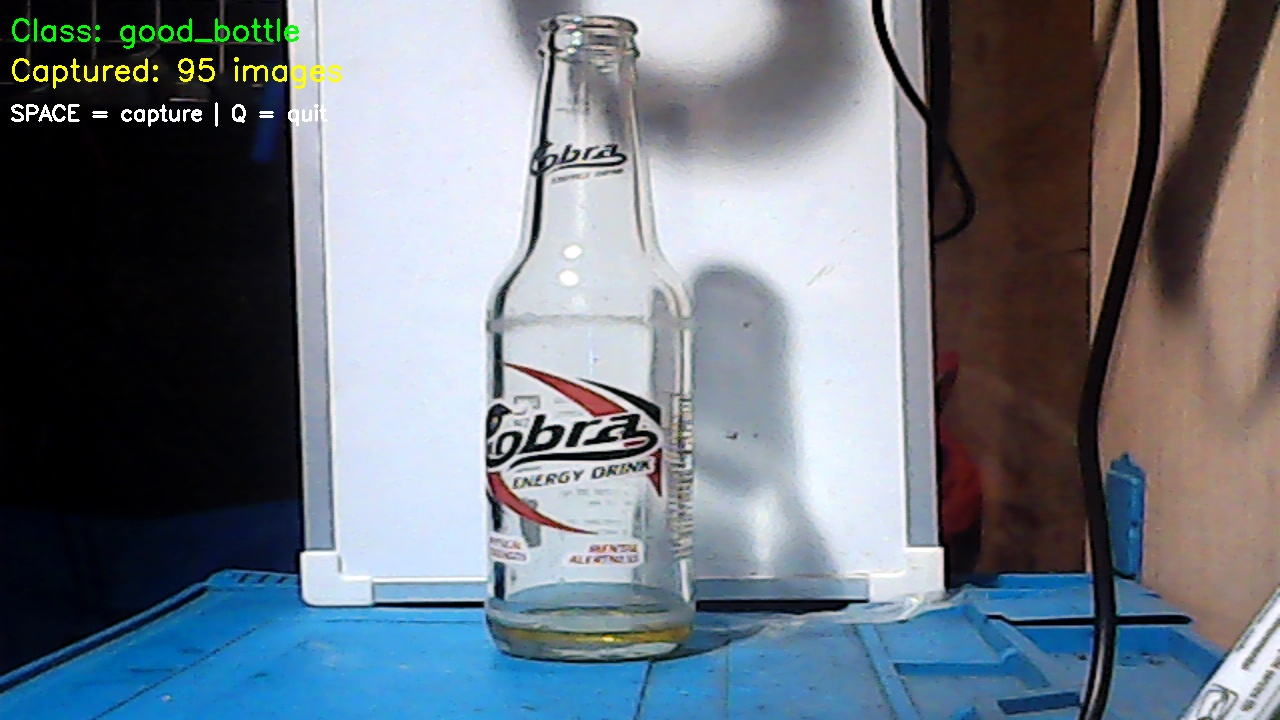good_bottle: (481, 7, 712, 684)
